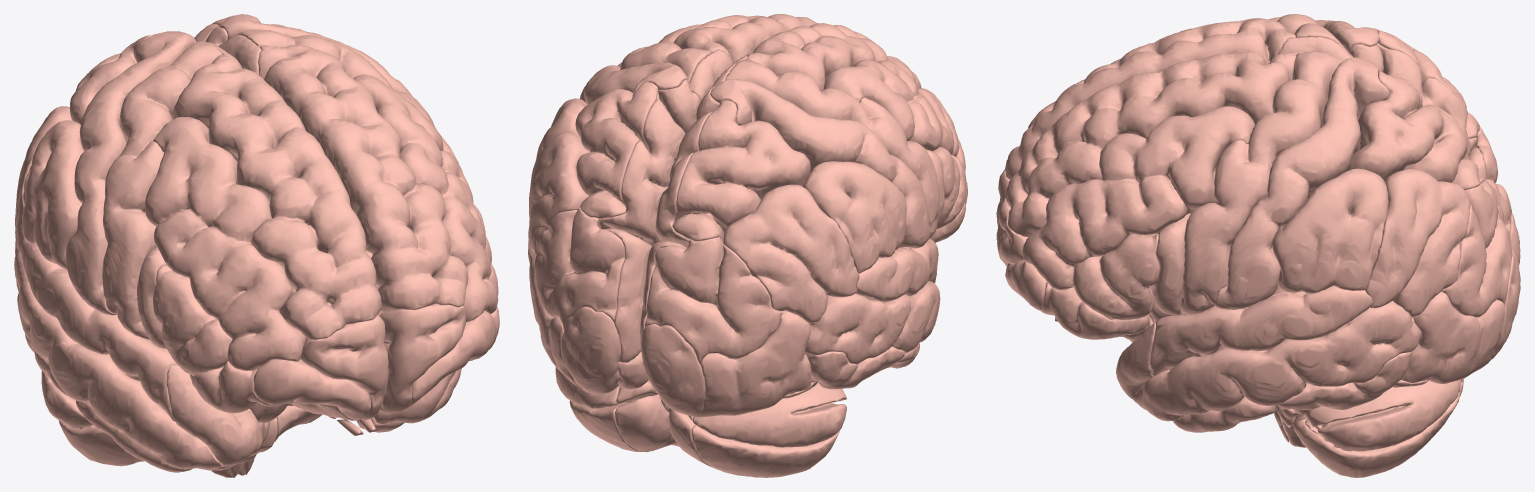
File: Allen_M_Brain_v1.0.glb
3 renders of one model, left to right at view 1: azimuth 30°, elevation 25°; view 2: azimuth 150°, elevation 25°; view 3: azimuth 270°, elevation 25°, orthographic. The views are drawn at different scales.
Visible parts, largest first — view 1: Allen_superior_frontal_gyrus_L, Allen_superior_frontal_gyrus_R, Allen_middle_frontal_gyrus_L, Allen_precentral_gyrus_L, Allen_middle_temporal_gyrus_L, Allen_postcentral_gyrus_L, Allen_middle_frontal_gyrus_R, Allen_superior_temporal_gyrus_L, Allen_supramarginal_gyrus_L, Allen_rostral_gyrus_R, Allen_inferior_frontal_gyrus_triangular_part_L, Allen_rostral_gyrus_L (+15 smaller); view 2: Allen_superior_occipital_gyrus_L, Allen_angular_gyrus_L, Allen_supraparietal_lobule_L, Allen_lateral_hemisphere_of_cerebellum_L, Allen_postcentral_gyrus_L, Allen_superior_occipital_gyrus_R, Allen_inferior_occipital_gyrus_L, Allen_supramarginal_gyrus_L, Allen_middle_temporal_gyrus_L, Allen_supraparietal_lobule_R, Allen_precentral_gyrus_L, Allen_middle_frontal_gyrus_L (+24 smaller); view 3: Allen_middle_frontal_gyrus_R, Allen_superior_frontal_gyrus_R, Allen_middle_temporal_gyrus_R, Allen_precentral_gyrus_R, Allen_postcentral_gyrus_R, Allen_supramarginal_gyrus_R, Allen_angular_gyrus_R, Allen_lateral_hemisphere_of_cerebellum_R, Allen_superior_temporal_gyrus_R, Allen_supraparietal_lobule_R, Allen_superior_frontal_gyrus_L, Allen_inferior_occipital_gyrus_R (+15 smaller).
Boxes of the visible parts, x1=… form: Allen_superior_frontal_gyrus_L: x1=172, y1=55, x2=381, y2=340; Allen_superior_frontal_gyrus_R: x1=258, y1=44, x2=468, y2=312; Allen_middle_frontal_gyrus_L: x1=144, y1=117, x2=306, y2=370; Allen_precentral_gyrus_L: x1=102, y1=41, x2=221, y2=340; Allen_middle_temporal_gyrus_L: x1=14, y1=250, x2=221, y2=469; Allen_postcentral_gyrus_L: x1=65, y1=31, x2=194, y2=315; Allen_middle_frontal_gyrus_R: x1=353, y1=74, x2=498, y2=321; Allen_superior_temporal_gyrus_L: x1=20, y1=239, x2=177, y2=421; Allen_supramarginal_gyrus_L: x1=22, y1=120, x2=84, y2=269; Allen_rostral_gyrus_R: x1=380, y1=303, x2=466, y2=413; Allen_inferior_frontal_gyrus_triangular_part_L: x1=152, y1=265, x2=232, y2=376; Allen_rostral_gyrus_L: x1=300, y1=315, x2=388, y2=419; Allen_superior_occipital_gyrus_L: x1=645, y1=236, x2=782, y2=363; Allen_angular_gyrus_L: x1=723, y1=184, x2=858, y2=323; Allen_supraparietal_lobule_L: x1=672, y1=100, x2=810, y2=241; Allen_lateral_hemisphere_of_cerebellum_L: x1=691, y1=382, x2=846, y2=477; Allen_postcentral_gyrus_L: x1=710, y1=79, x2=930, y2=248; Allen_superior_occipital_gyrus_R: x1=534, y1=207, x2=625, y2=329; Allen_inferior_occipital_gyrus_L: x1=697, y1=310, x2=815, y2=417; Allen_supramarginal_gyrus_L: x1=803, y1=161, x2=906, y2=273; Allen_middle_temporal_gyrus_L: x1=805, y1=281, x2=940, y2=364; Allen_supraparietal_lobule_R: x1=575, y1=82, x2=658, y2=218; Allen_precentral_gyrus_L: x1=725, y1=59, x2=940, y2=239; Allen_middle_frontal_gyrus_L: x1=823, y1=59, x2=965, y2=171; Allen_middle_frontal_gyrus_R: x1=1022, y1=106, x2=1255, y2=289; Allen_superior_frontal_gyrus_R: x1=1005, y1=52, x2=1296, y2=236; Allen_middle_temporal_gyrus_R: x1=1132, y1=301, x2=1421, y2=421; Allen_precentral_gyrus_R: x1=1180, y1=51, x2=1340, y2=314; Allen_postcentral_gyrus_R: x1=1214, y1=57, x2=1390, y2=309; Allen_supramarginal_gyrus_R: x1=1271, y1=168, x2=1388, y2=293; Allen_angular_gyrus_R: x1=1365, y1=169, x2=1470, y2=317; Allen_lateral_hemisphere_of_cerebellum_R: x1=1281, y1=379, x2=1463, y2=477; Allen_superior_temporal_gyrus_R: x1=1149, y1=286, x2=1372, y2=376; Allen_supraparietal_lobule_R: x1=1346, y1=71, x2=1480, y2=189; Allen_superior_frontal_gyrus_L: x1=1005, y1=18, x2=1295, y2=179; Allen_inferior_occipital_gyrus_R: x1=1400, y1=291, x2=1504, y2=383.
Bounding box in the file's own units: 0.1389 × 0.1479 × 0.1727.
